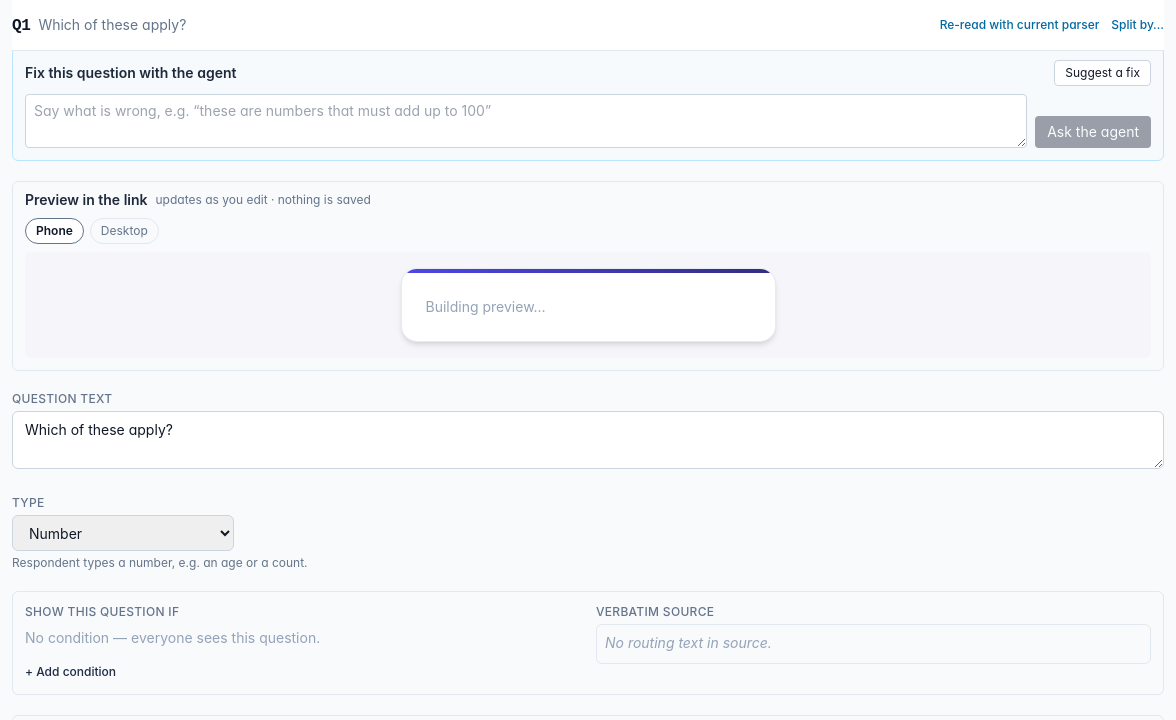
constant sum editor › picking "Adds up to (constant sum)" reveals the items editor
The width and height of the screenshot is (1176, 720).
Select "Adds up to (constant sum)" in the dropdown at (123, 533), box [12,515,234,551]
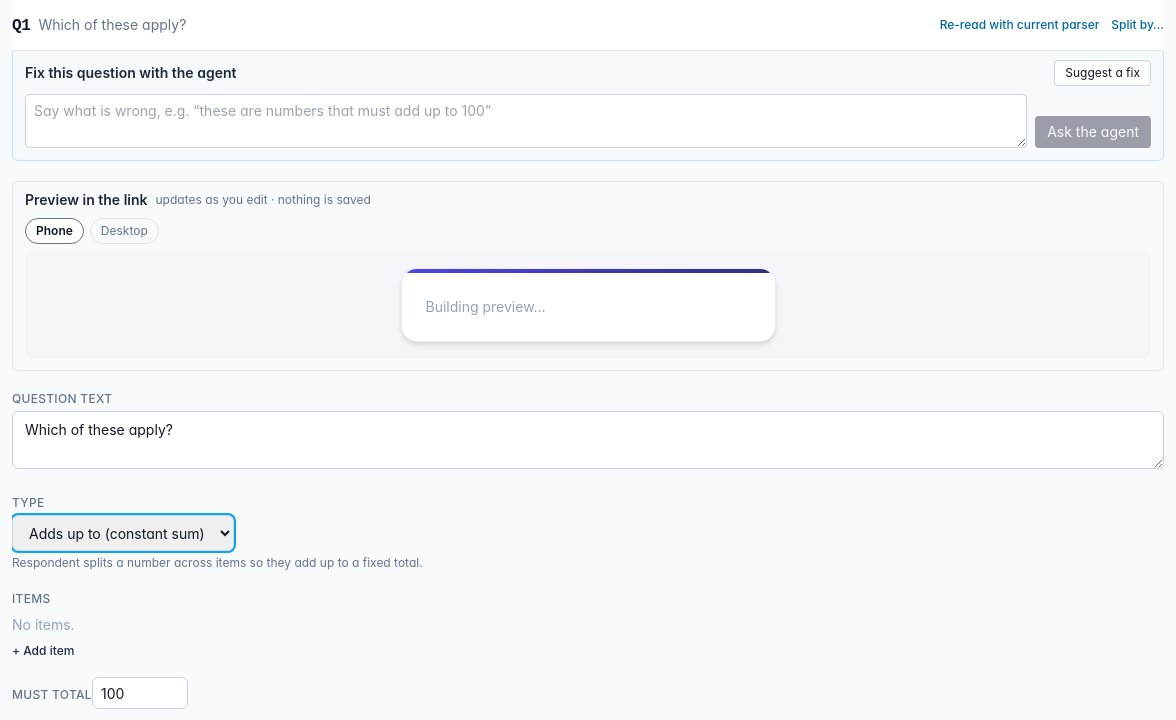
Now the text "Items" is shown, box [12,591,50,606]
Now the number field labelled "Must total" holds "100", box [92,677,188,709]
